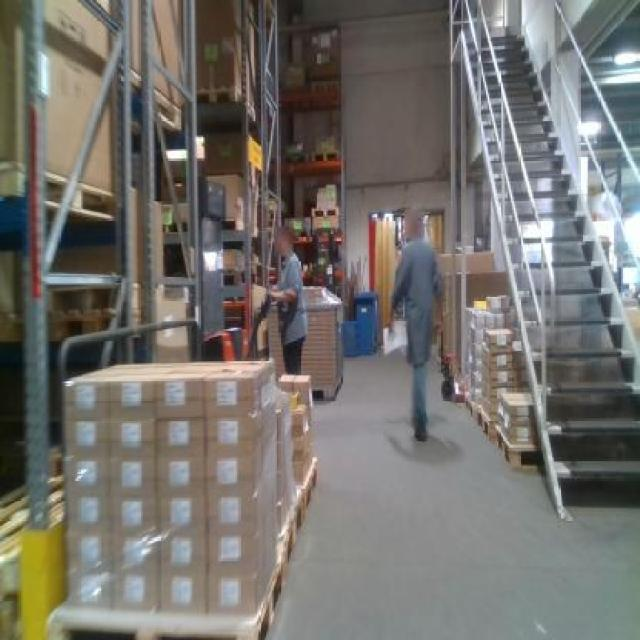pallet: (485, 411, 554, 477), (291, 456, 325, 544), (310, 149, 340, 168), (310, 203, 341, 219)
